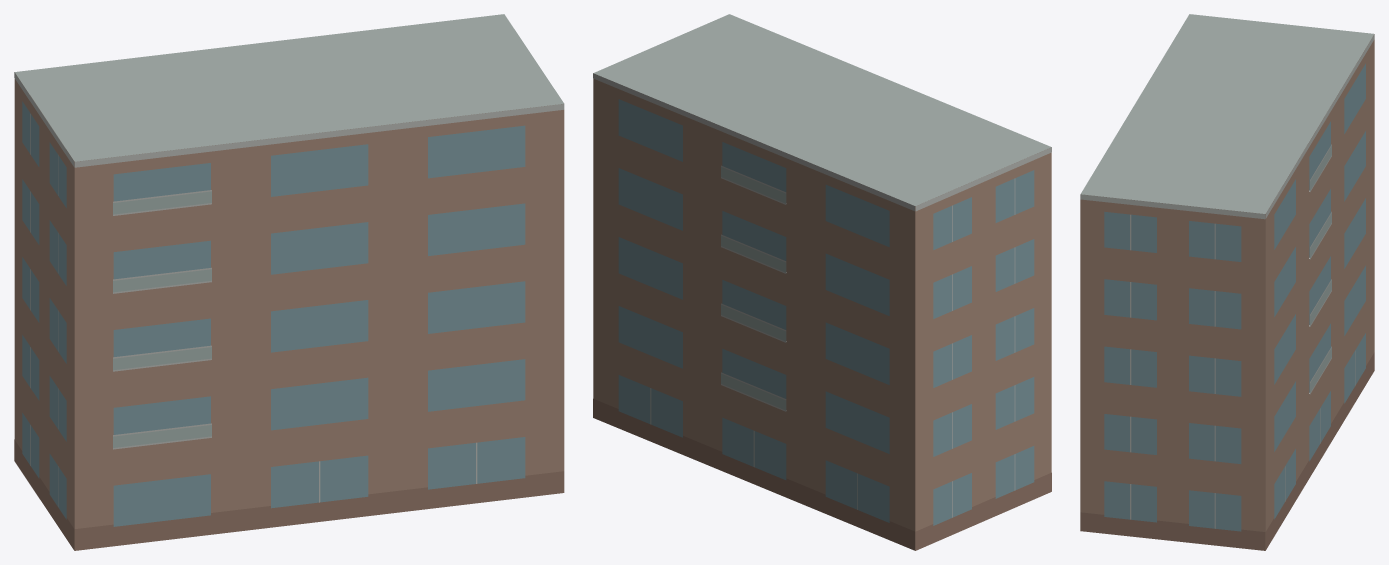
Rendered from survey-upis-32746837.glb.
3 views of the same model, side by side, from view 1: azimuth 30°, elevation 25°; view 2: azimuth 150°, elevation 25°; view 3: azimuth 270°, elevation 25° (orthographic). The views are drawn at different scales.
Visible parts, largest first — view 1: survey-upis-32746837.tmp; view 2: survey-upis-32746837.tmp; view 3: survey-upis-32746837.tmp.
Boxes of the visible parts, x1,y1,x2,y2 form: survey-upis-32746837.tmp: [14, 14, 564, 550]; survey-upis-32746837.tmp: [593, 14, 1051, 550]; survey-upis-32746837.tmp: [1080, 14, 1374, 550].
Bounding box in the file's own units: 20.14 × 15.8 × 12.52.
